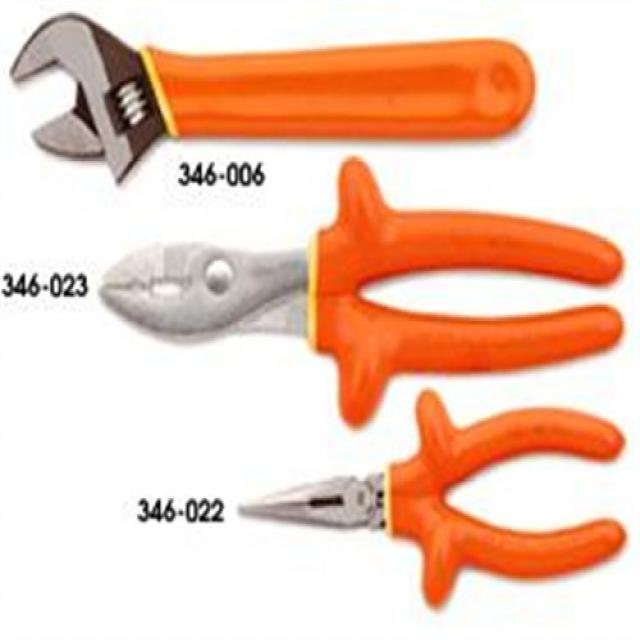pliers: (95, 156, 630, 410), (232, 396, 628, 606)
wrench: (0, 3, 545, 189)
